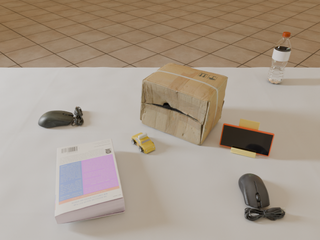book: (55, 139, 125, 224)
bottle: (267, 32, 292, 84)
box: (140, 63, 228, 145)
mouse: (239, 173, 286, 221), (38, 106, 84, 127)
phone: (220, 123, 274, 156)
toy_car: (132, 133, 155, 153)
